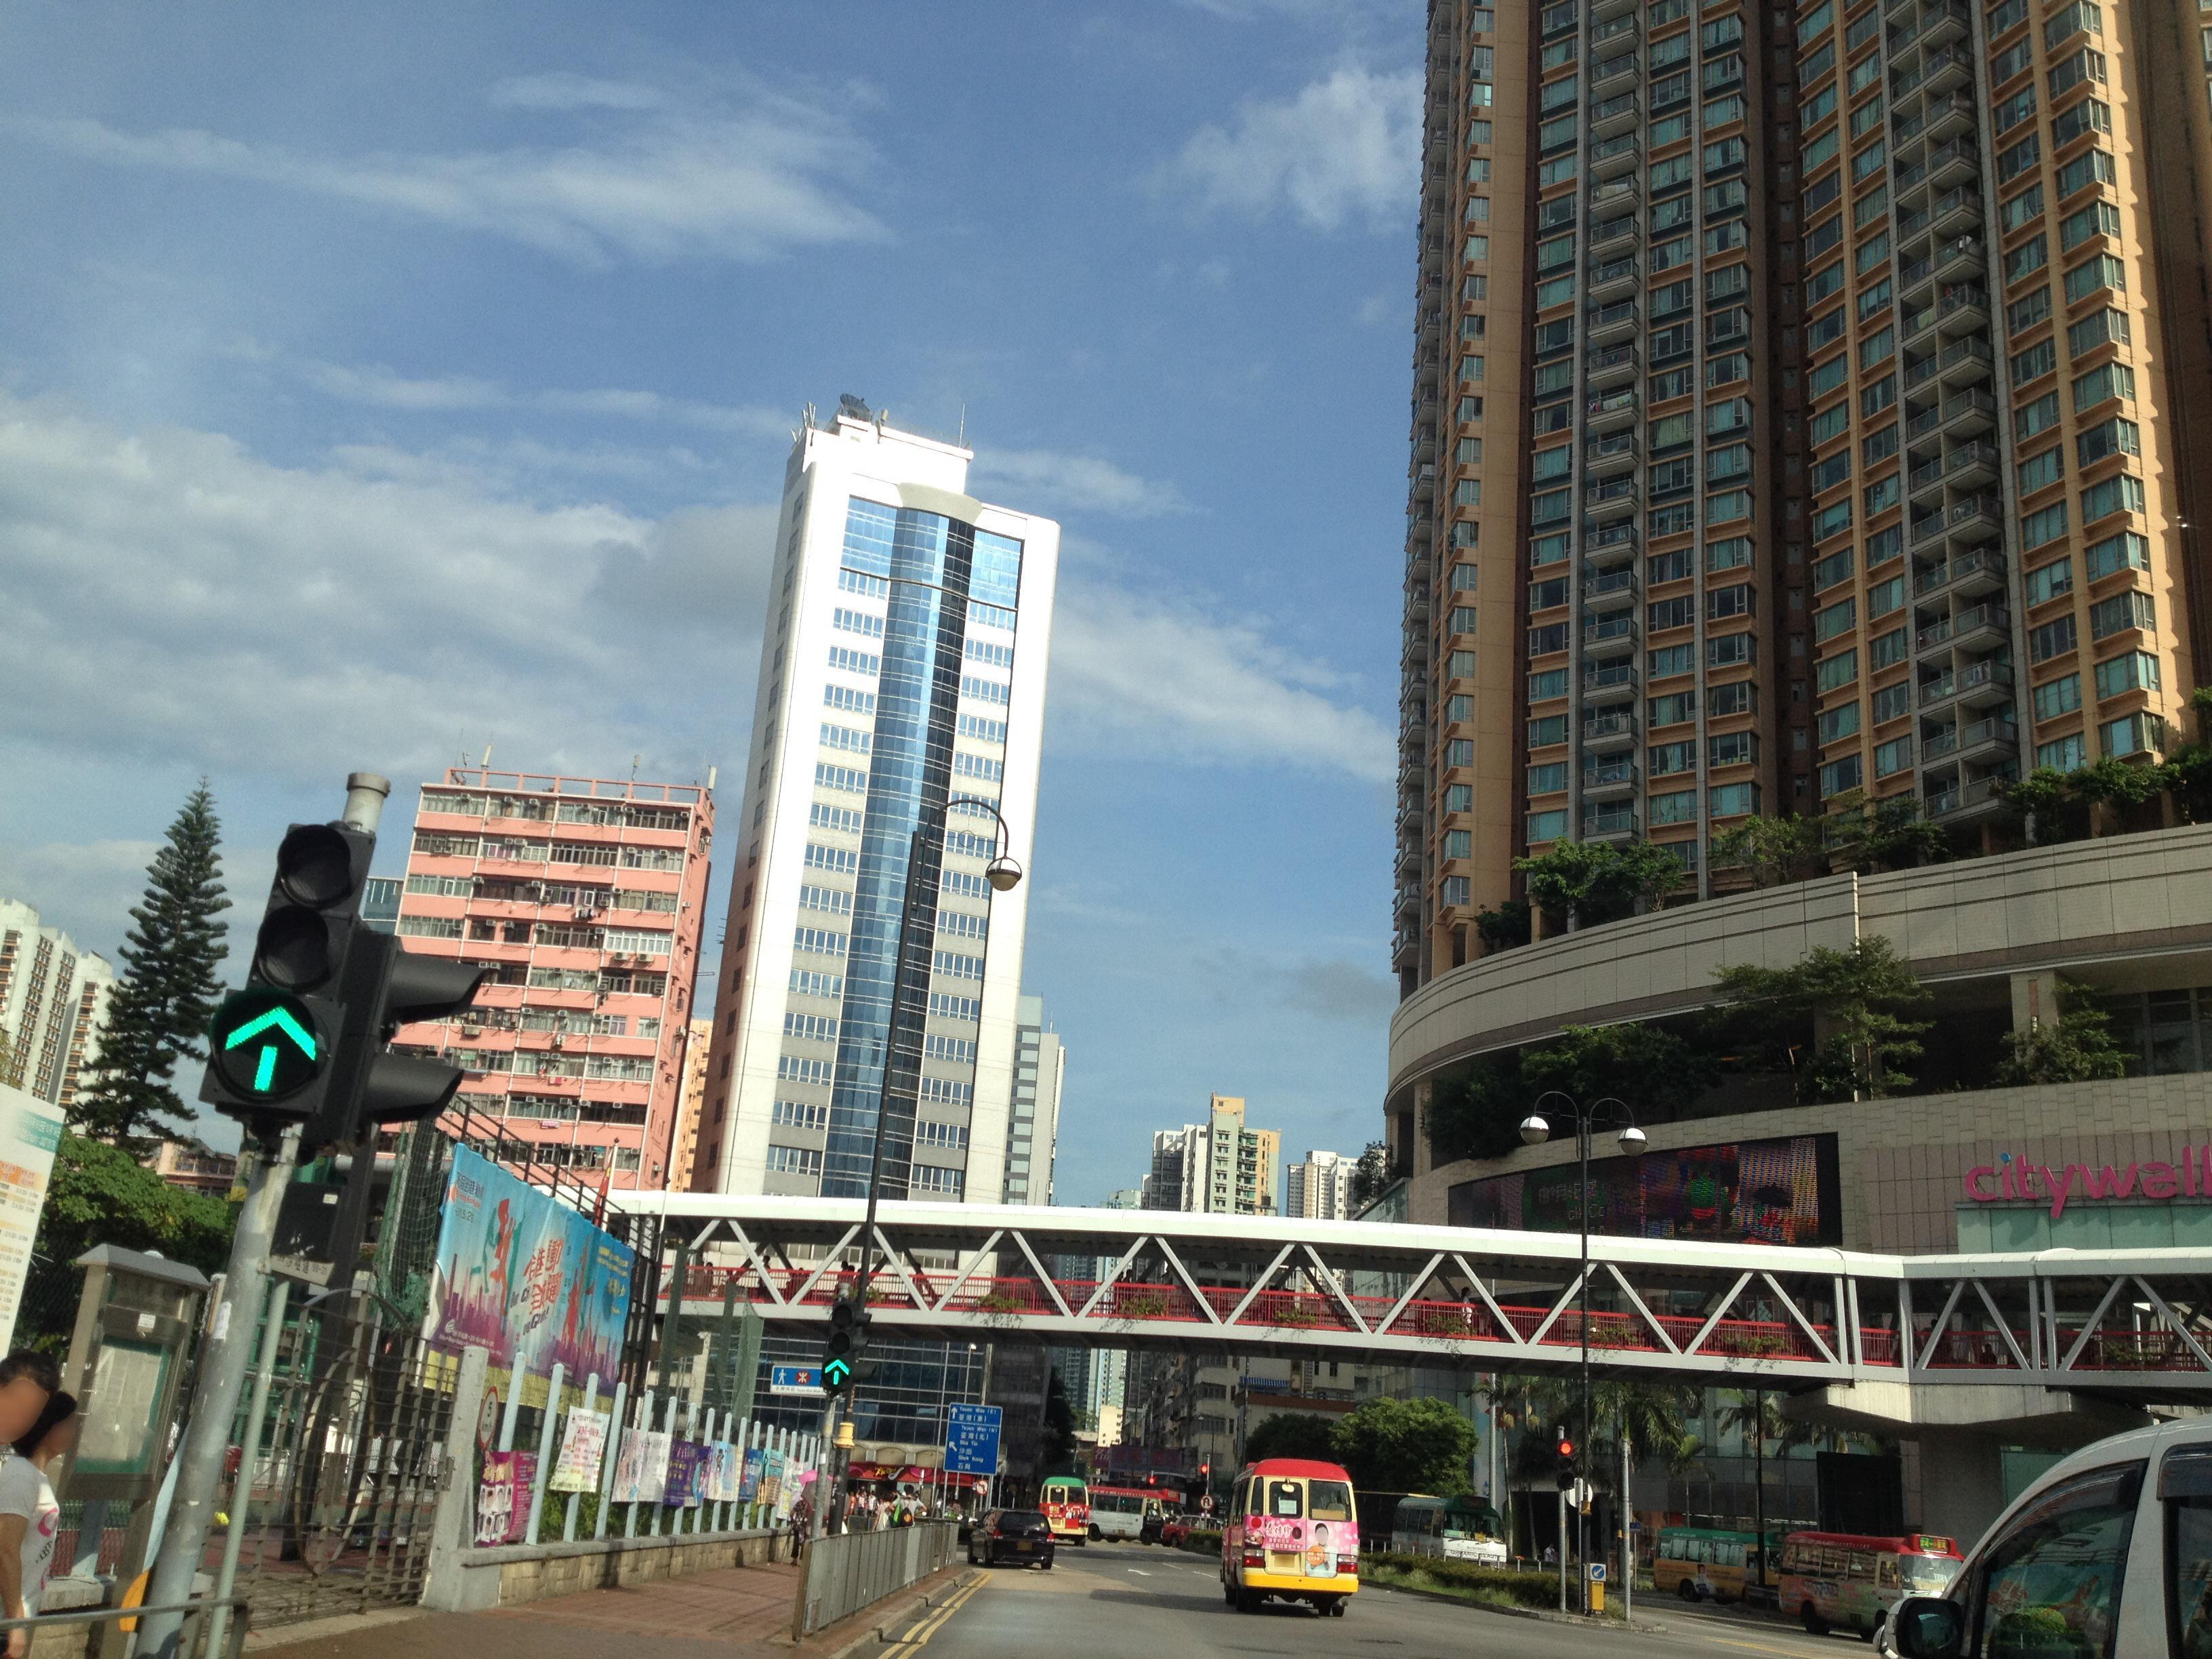vinyl banner: (421, 1129, 641, 1398), (671, 1431, 808, 1516), (479, 1455, 559, 1563), (615, 1405, 667, 1511), (559, 1391, 608, 1492)
